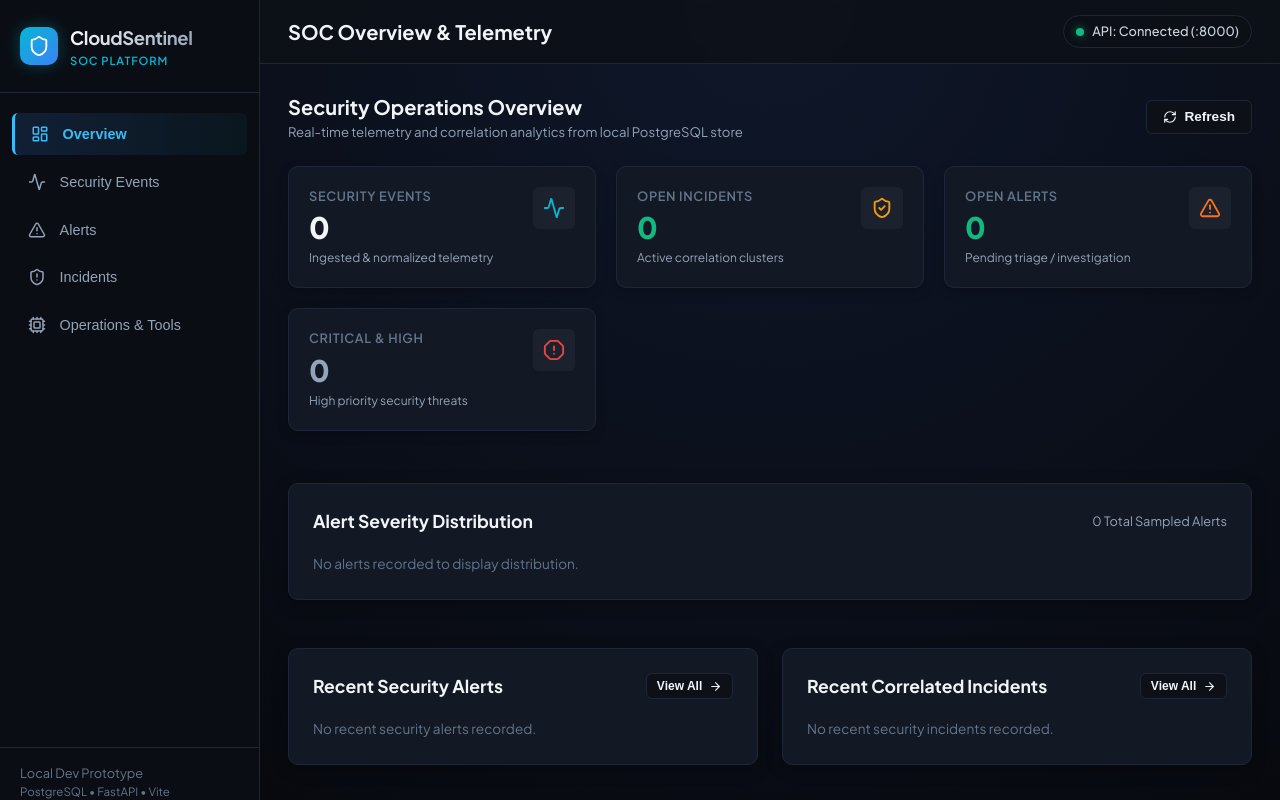
Test: Navigation and Operations Controls › App navigation switches between tabs and shows API connection state
This screenshot has width=1280, height=800.
Expected: the element with test id "connection-status-pill" reads "API: Connected (:8000)", [1092, 23, 1239, 39]
# Navigate to Events tab
Click the button with test id "nav-tab-events". click: (130, 182)
box: [12, 161, 247, 203]
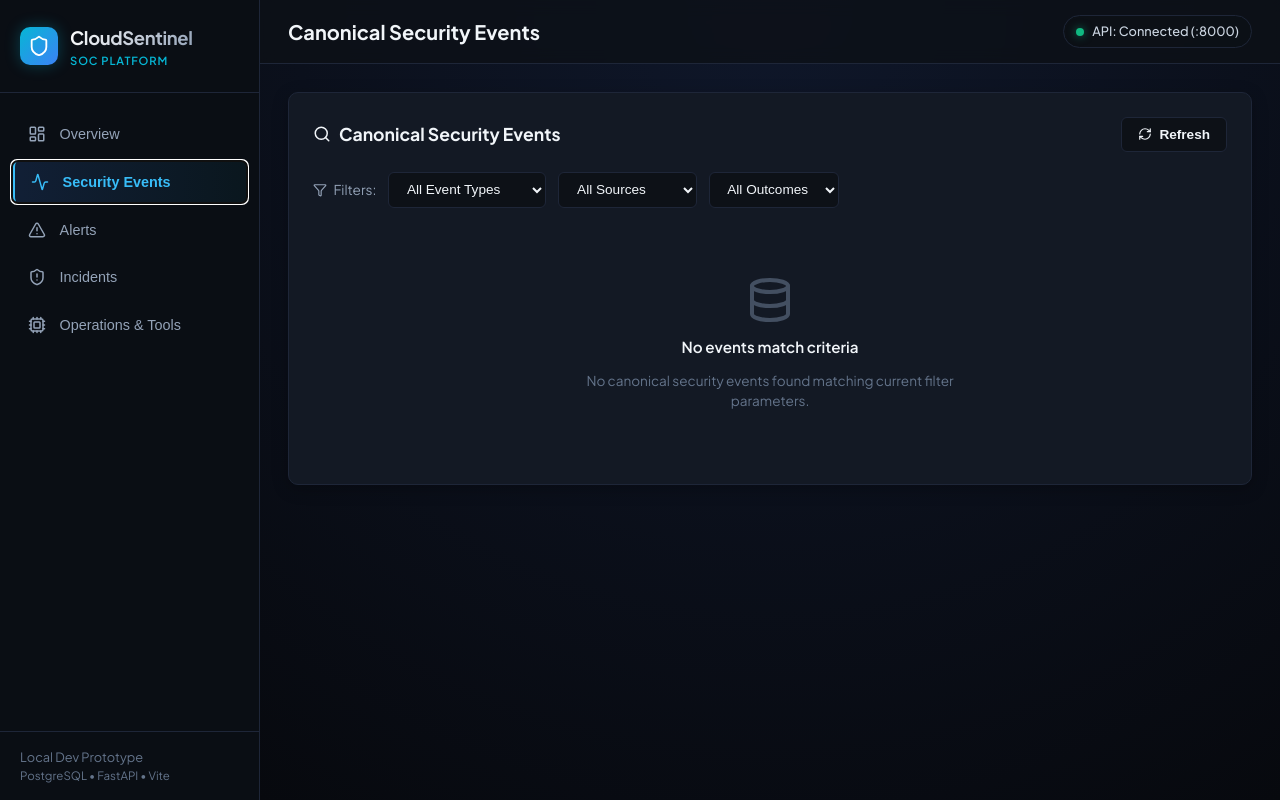
Expected: the element with test id "events-page-container" is shown, [288, 92, 1252, 485]
# Navigate to Alerts tab
Click the button with test id "nav-tab-alerts". click: (130, 230)
box: [12, 209, 247, 251]
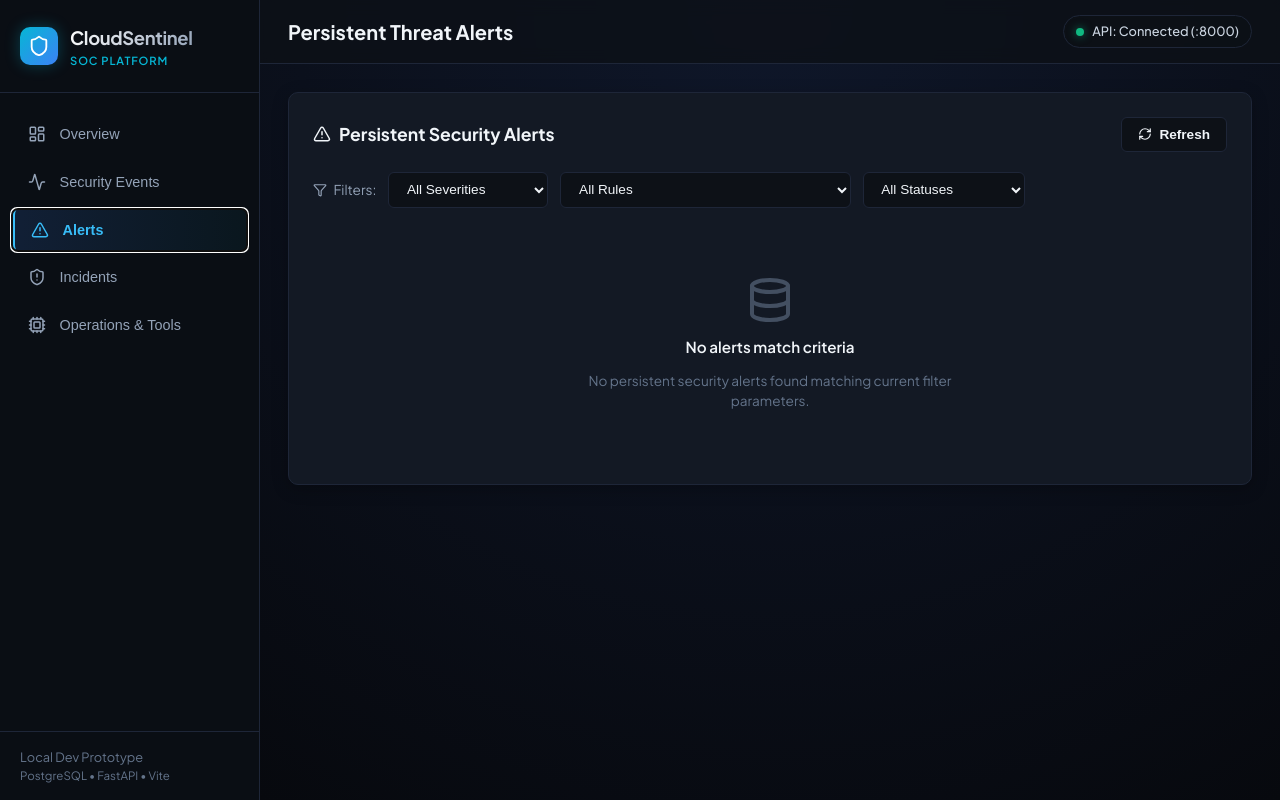
Expected: the element with test id "alerts-page-container" is shown, [288, 92, 1252, 485]
# Navigate to Operations tab
Click the button with test id "nav-tab-operations". click: (130, 325)
box: [12, 304, 247, 346]
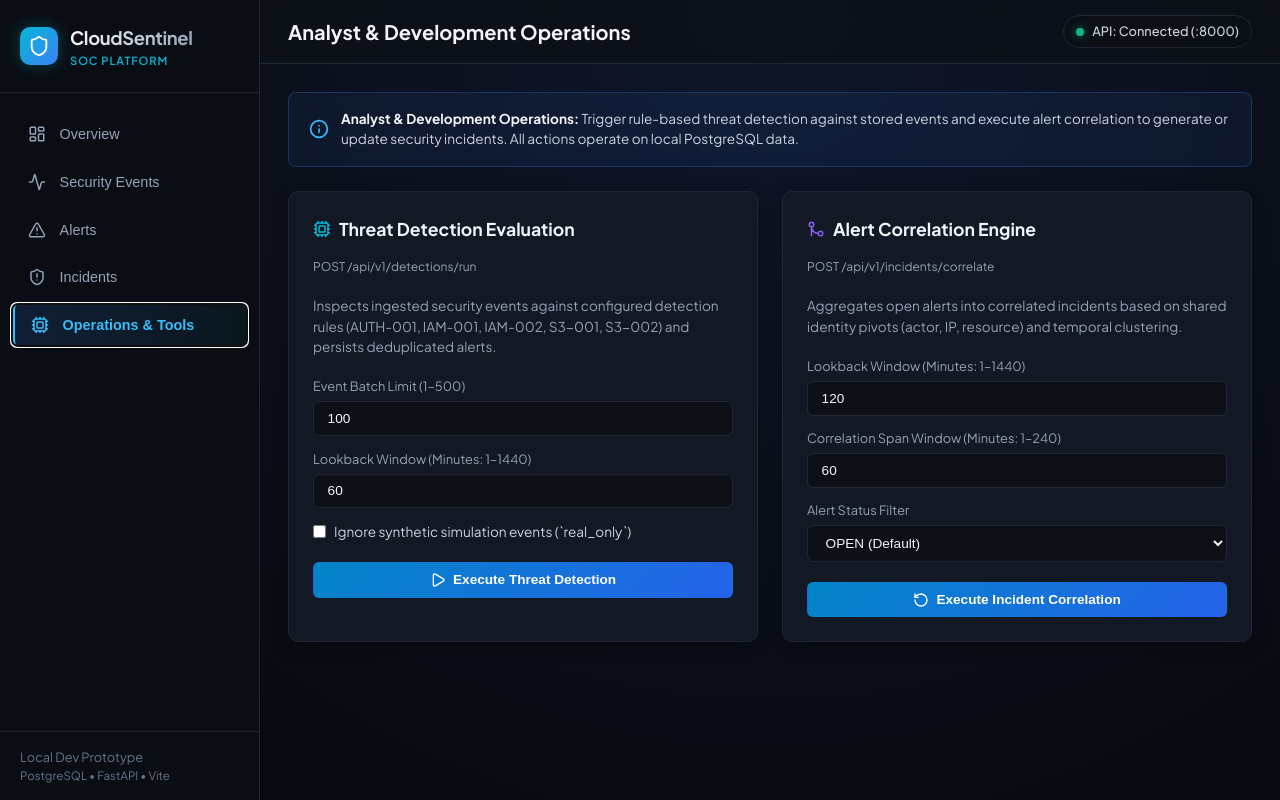
Expected: the element with test id "operations-page-container" is shown, [288, 92, 1252, 642]
